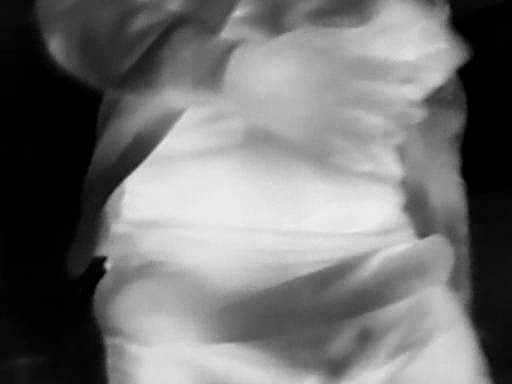chest: (106, 0, 419, 239)
